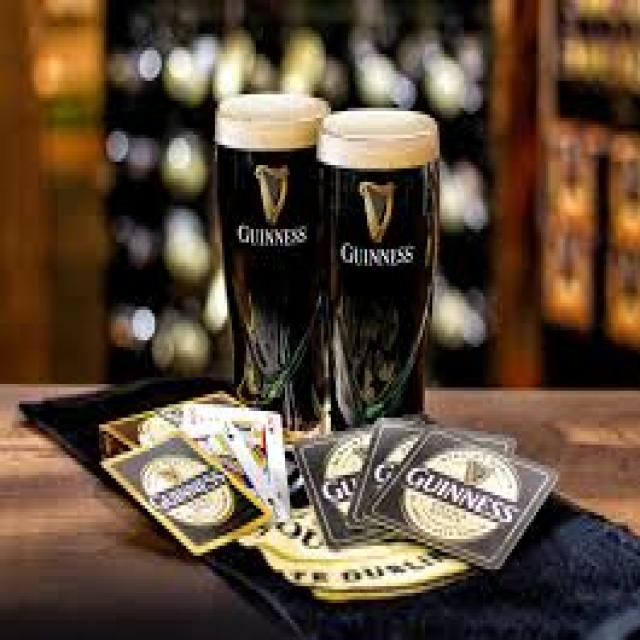guiness_full_glass: (324, 116, 444, 433), (216, 96, 322, 418)
